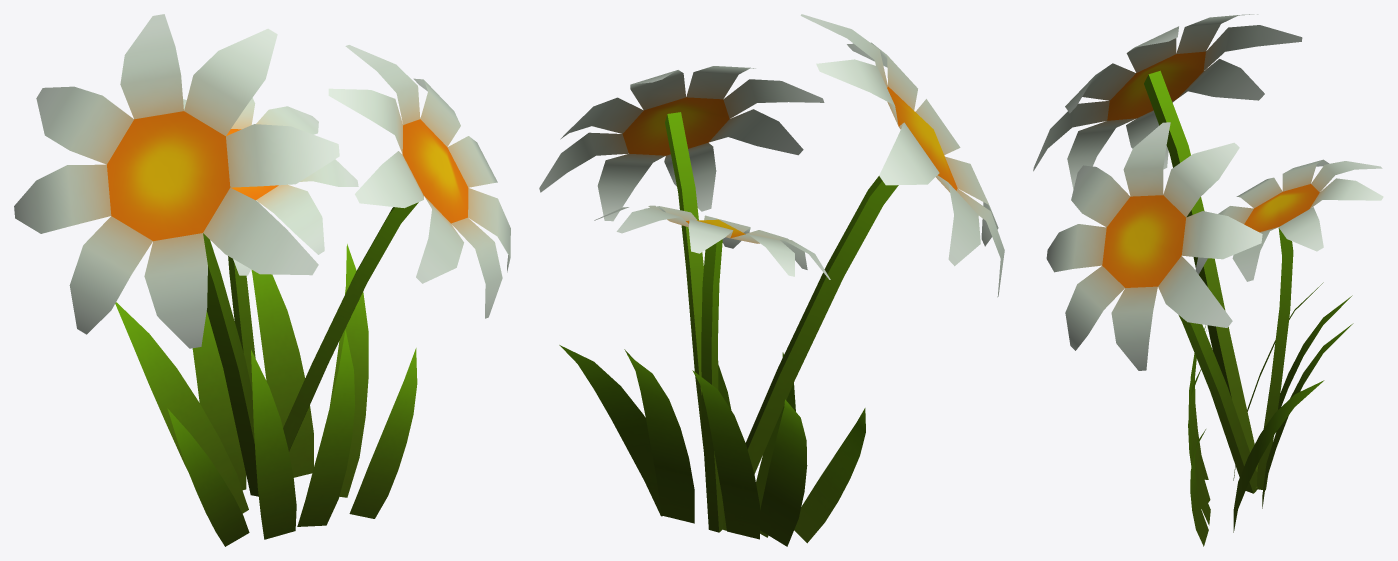
The model's file is Mesh_Flower03.fbx.
3 views of the same model, side by side, from view 1: azimuth 30°, elevation 25°; view 2: azimuth 150°, elevation 25°; view 3: azimuth 270°, elevation 25° (orthographic). The views are drawn at different scales.
Visible parts, largest first — view 1: Mesh_Flower03; view 2: Mesh_Flower03; view 3: Mesh_Flower03.
Boxes of the visible parts, x1,y1,x2,y2 form: Mesh_Flower03: (14,14,510,546); Mesh_Flower03: (539,14,1004,546); Mesh_Flower03: (1033,14,1383,546).
Bounding box in the file's own units: 0.7431 × 0.8453 × 0.586.
